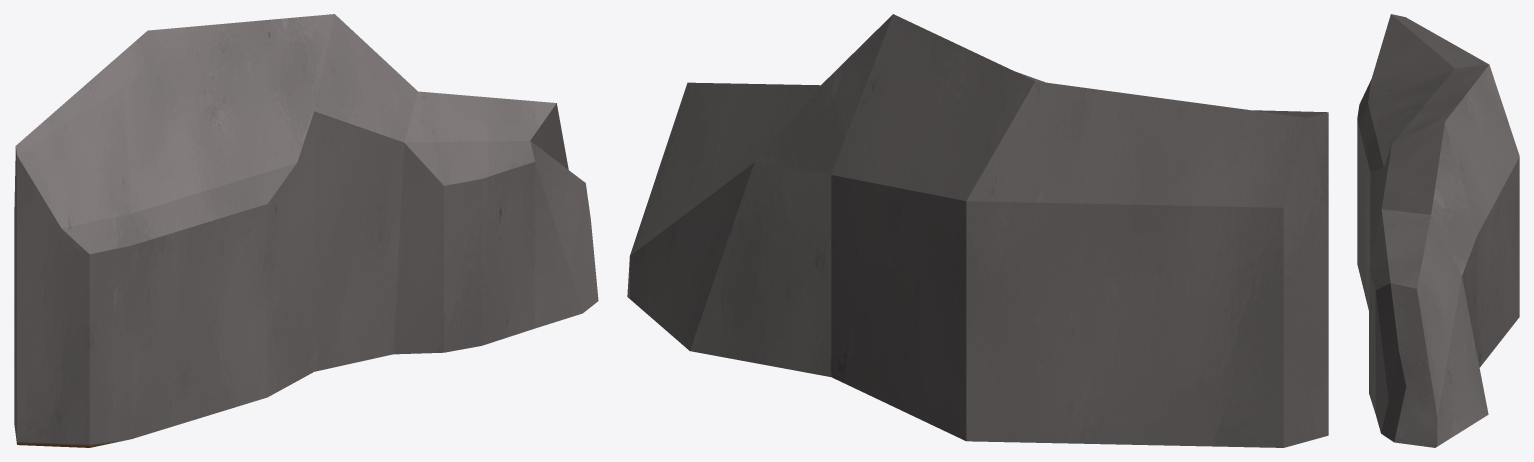
Rendered from Stone_ver2.fbx.
3 views of the same model, side by side, from view 1: azimuth 30°, elevation 25°; view 2: azimuth 150°, elevation 25°; view 3: azimuth 270°, elevation 25° (orthographic). The views are drawn at different scales.
Visible parts, largest first — view 1: Plane.015; view 2: Plane.015; view 3: Plane.015.
Part boxes in pixels (<box>): Plane.015: <box>14,14,598,447</box>; Plane.015: <box>627,14,1328,447</box>; Plane.015: <box>1357,14,1519,447</box>.
Bounding box in the file's own units: 234 × 119 × 73.95.
